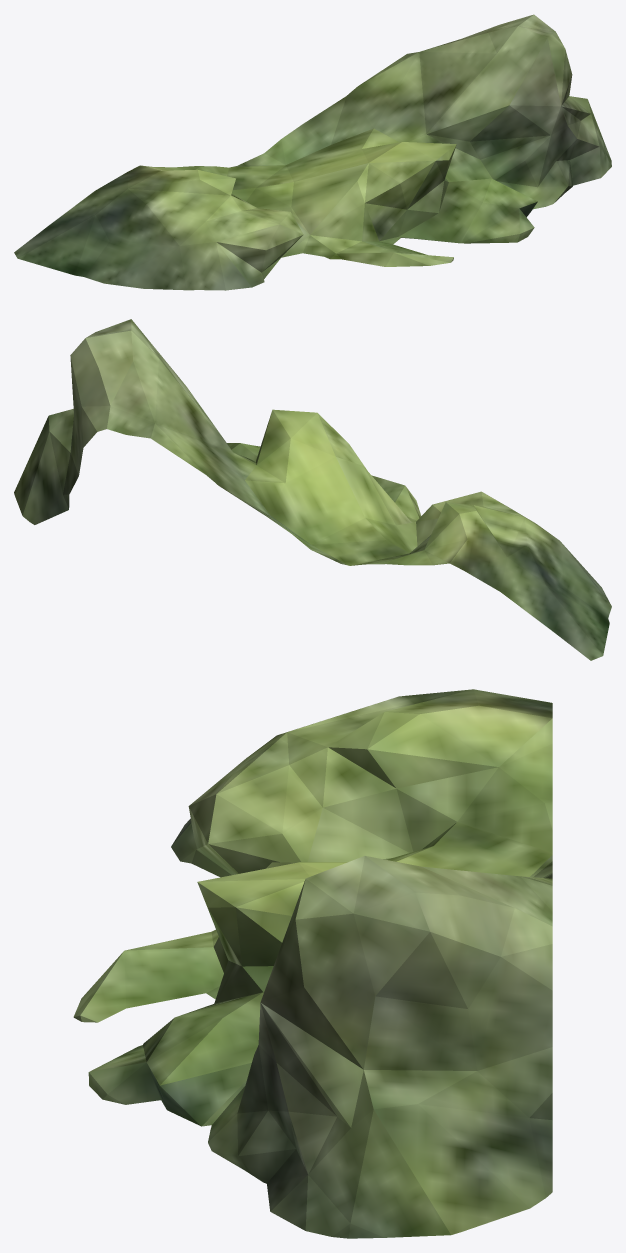
3 renders of one model, top to bottom at view 1: azimuth 30°, elevation 25°; view 2: azimuth 150°, elevation 25°; view 3: azimuth 270°, elevation 25°, orthographic. The views are drawn at different scales.
Size of the model in its own units: 26.28 by 6.84 by 9.96.
1 material, 1 textured.
